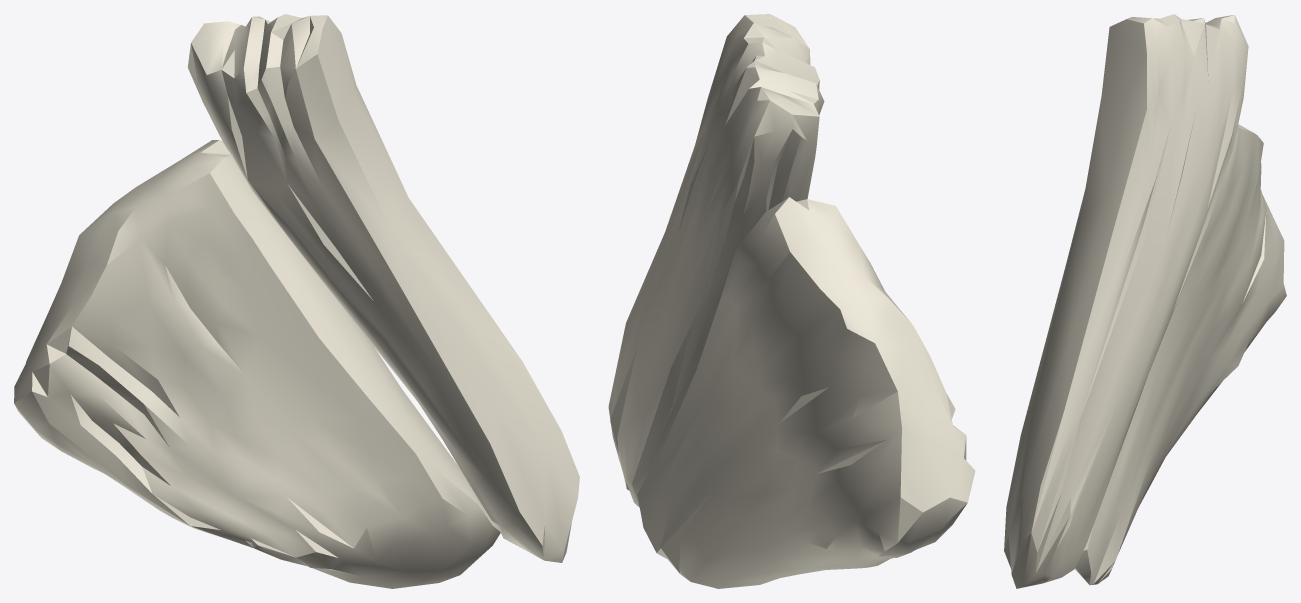
File: fma73175_mm1464m.glb
3 views of the same model, side by side, from view 1: azimuth 30°, elevation 25°; view 2: azimuth 150°, elevation 25°; view 3: azimuth 270°, elevation 25° (orthographic). The views are drawn at different scales.
Visible parts, largest first — view 1: FMA73175_MM1464M; view 2: FMA73175_MM1464M; view 3: FMA73175_MM1464M.
Boxes of the visible parts, x1,y1,x2,y2 form: FMA73175_MM1464M: [14, 14, 579, 588]; FMA73175_MM1464M: [608, 14, 975, 588]; FMA73175_MM1464M: [1004, 14, 1286, 588].
Bounding box in the file's own units: 0.0128 × 0.0154 × 0.00757.
